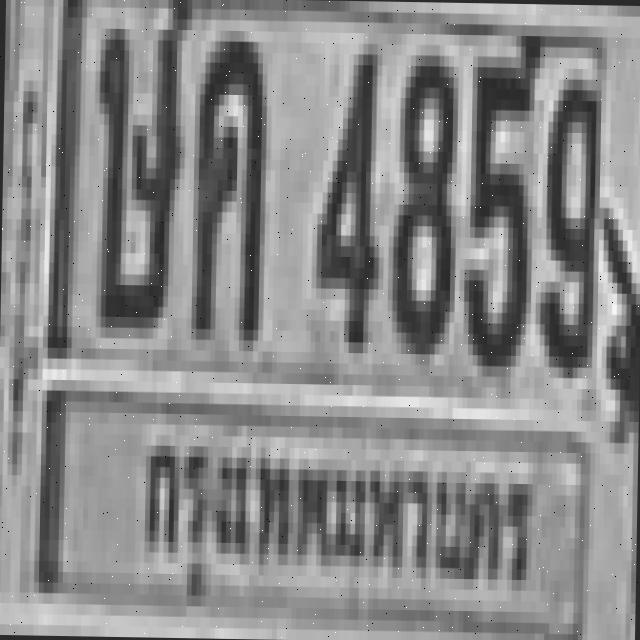13KhorKhwai: (191, 30, 263, 330)
4: (310, 31, 378, 342)
48SorRueSi: (90, 7, 182, 318)
5: (460, 34, 537, 367)
8: (386, 44, 454, 344)
9: (534, 68, 602, 368)
Bangkok: (130, 410, 542, 609)
